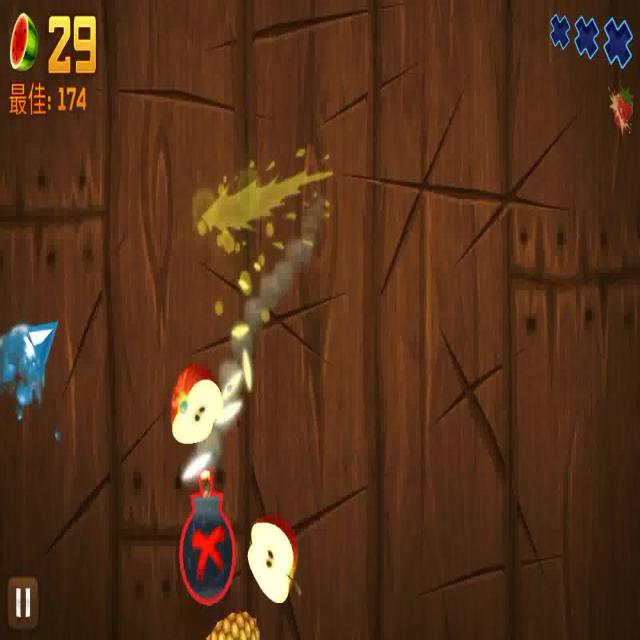bomb: (172, 456, 239, 609)
fruit: (248, 506, 308, 612), (162, 363, 224, 439), (202, 612, 266, 638)
